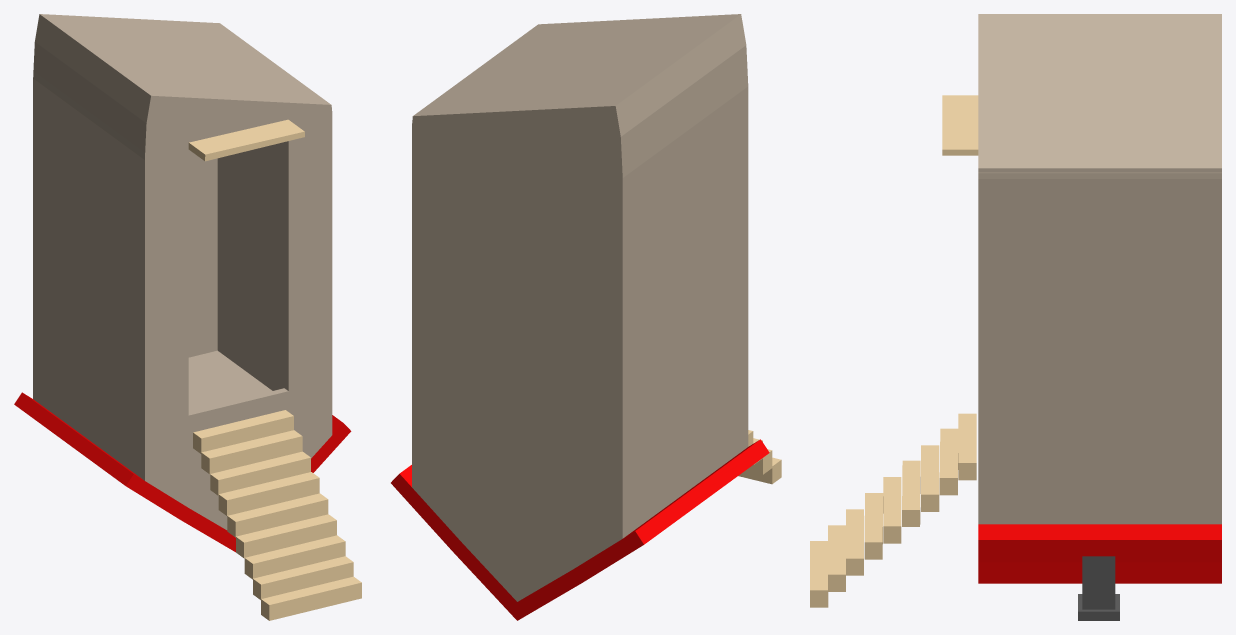
File: room_1.glb
3 renders of one model, left to right at view 1: azimuth 30°, elevation 25°; view 2: azimuth 150°, elevation 25°; view 3: azimuth 270°, elevation 25°, orthographic. The views are drawn at different scales.
Visible parts, largest first — view 1: komnata_1; view 2: komnata_1; view 3: komnata_1.
Part boxes in pixels (box(x1,y1,x2,y2)): komnata_1: box(14, 14, 361, 620); komnata_1: box(391, 14, 781, 620); komnata_1: box(810, 14, 1221, 620).
Size of what is drawn, in the model's own units: 1.88 by 3.82 by 2.72.
1 material, 1 textured.
